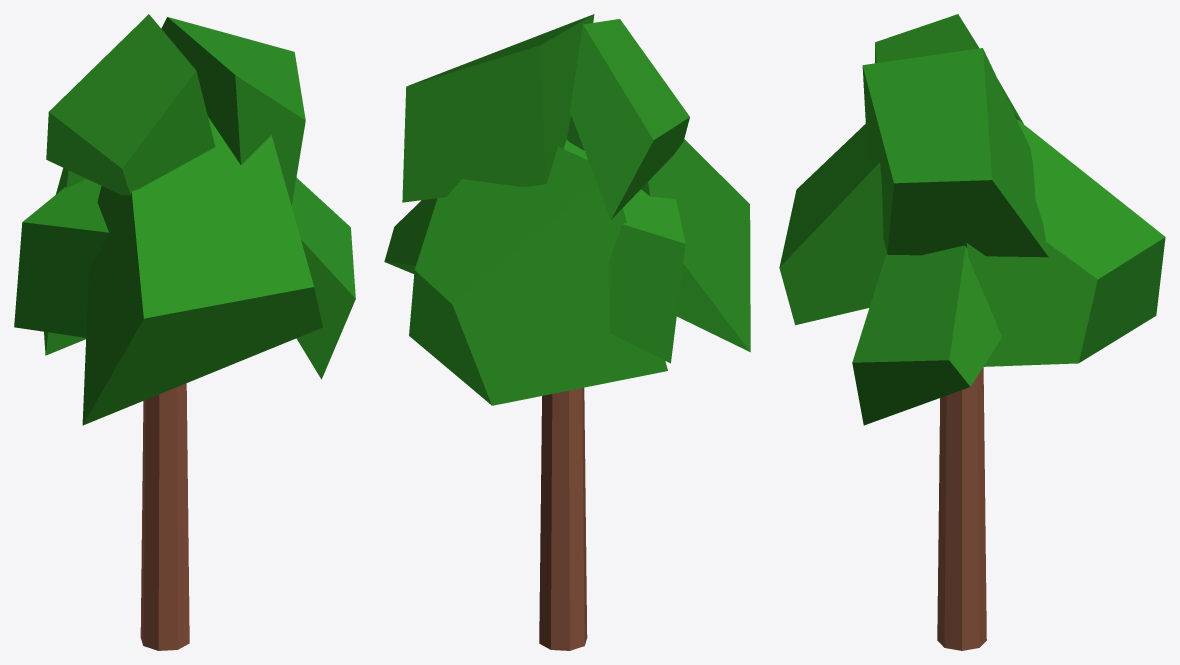
The model's file is Tree_41_summer.fbx.
3 renders of one model, left to right at view 1: azimuth 30°, elevation 25°; view 2: azimuth 150°, elevation 25°; view 3: azimuth 270°, elevation 25°, orthographic. The views are drawn at different scales.
Parts seen in each view (by area): view 1: Tree_41_summer; view 2: Tree_41_summer; view 3: Tree_41_summer.
Boxes of the visible parts, box(x1,y1,x2,y2) form: Tree_41_summer: box(14, 14, 355, 650); Tree_41_summer: box(384, 14, 750, 650); Tree_41_summer: box(779, 14, 1165, 650).
Size of the model in its own units: 120 by 229 by 130.
